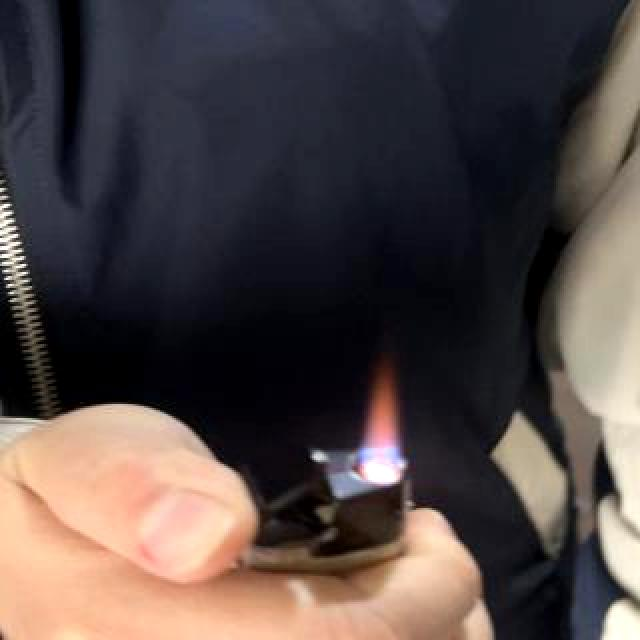fire: (359, 378, 405, 458)
